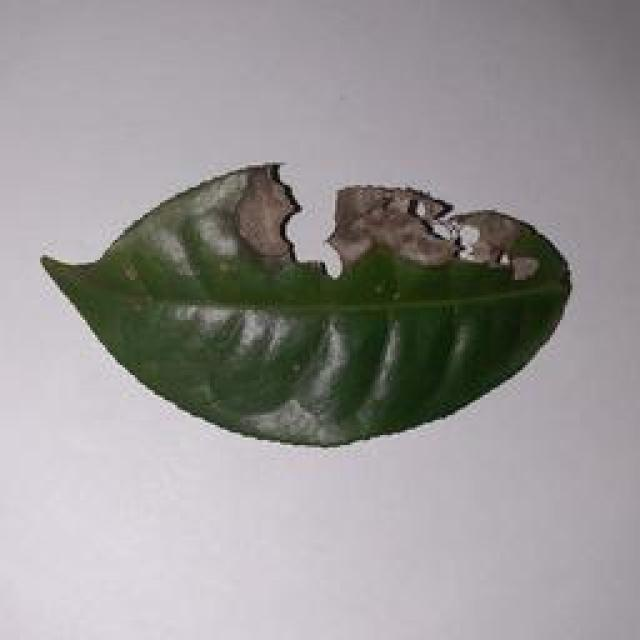Brown Blight: (24, 158, 595, 455)
